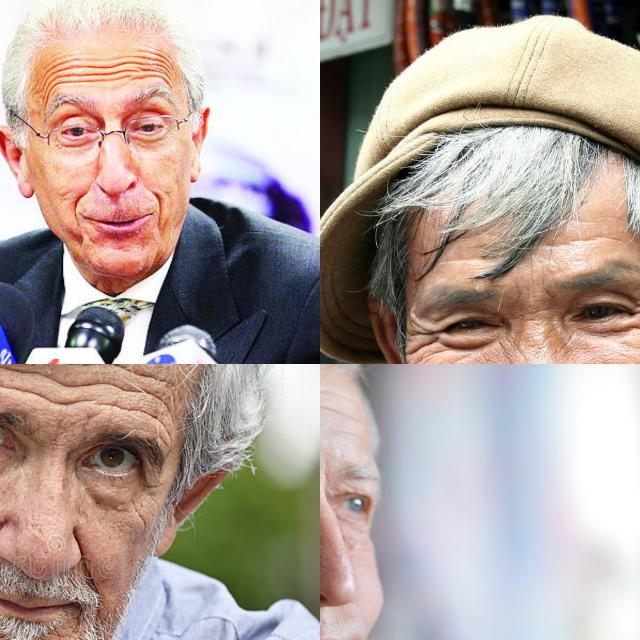chin: (41, 625, 65, 640)
crows_feet: (408, 318, 436, 360), (138, 474, 162, 500)
forehead: (98, 53, 168, 83), (550, 225, 616, 249), (43, 62, 95, 90), (42, 371, 96, 395), (105, 394, 149, 420), (441, 250, 487, 274), (104, 379, 150, 403), (3, 364, 34, 398), (102, 364, 155, 382), (42, 392, 84, 410), (320, 395, 331, 417)
gummy_smile: (73, 536, 95, 586), (66, 185, 88, 222), (150, 186, 166, 224)
masseter: (129, 503, 149, 531)
